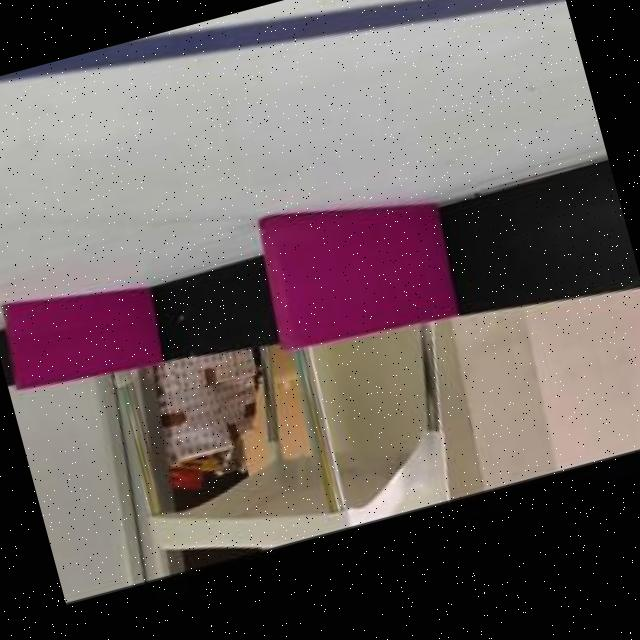xparking: (256, 182, 450, 347), (0, 271, 155, 390)
